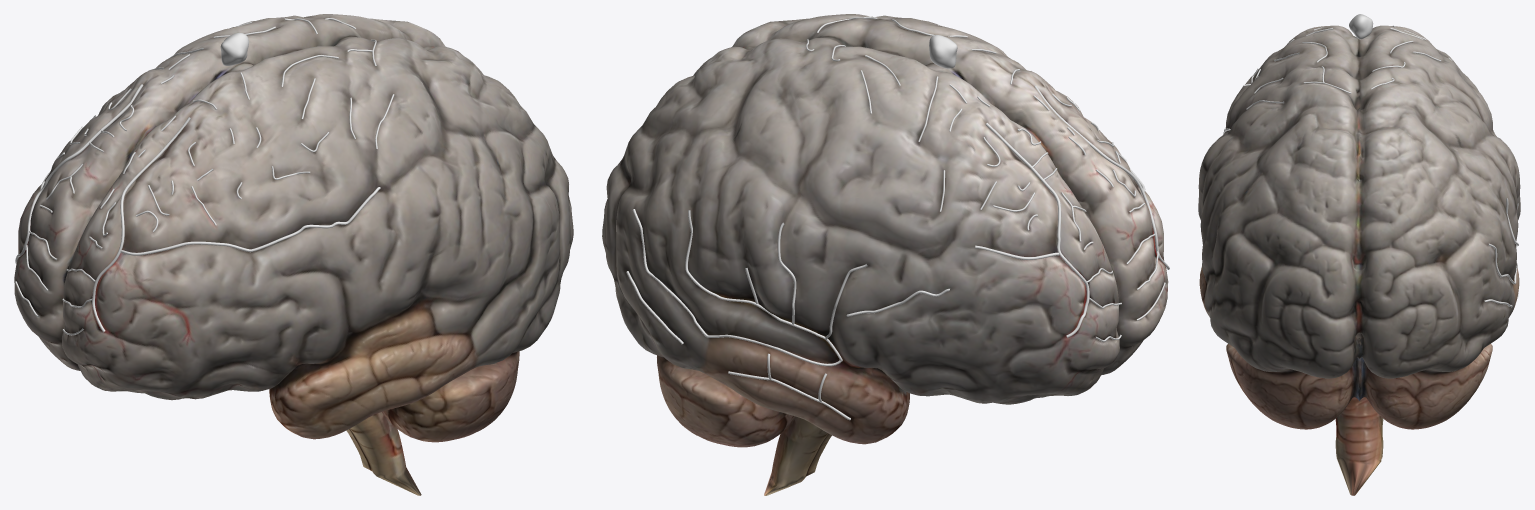
File: brain.glb
The picture shows the model from 3 angles, left to right: view 1: azimuth 30°, elevation 25°; view 2: azimuth 150°, elevation 25°; view 3: azimuth 270°, elevation 25°; orthographic projection. The views are drawn at different scales.
Visible parts, largest first — view 1: brain, synap_first, synap_third, synap_fourth, synap_six.001, fMolecule; view 2: brain, synap_second, synap_third, synap_first, synap_fourth, fMolecule, synap_six.001; view 3: brain, synap_six.001, fMolecule, synap_second.
Boxes of the visible parts, bbox=[...] form: brain: bbox=[14, 14, 573, 495]; synap_first: bbox=[62, 117, 380, 335]; synap_third: bbox=[15, 84, 143, 317]; synap_fourth: bbox=[57, 88, 242, 232]; synap_six.001: bbox=[213, 18, 394, 152]; fMolecule: bbox=[220, 32, 248, 65]; brain: bbox=[602, 14, 1168, 495]; synap_second: bbox=[626, 209, 949, 420]; synap_third: bbox=[975, 122, 1121, 341]; synap_first: bbox=[1034, 85, 1169, 320]; synap_fourth: bbox=[980, 94, 1126, 230]; fMolecule: bbox=[929, 35, 957, 68]; synap_six.001: bbox=[806, 16, 967, 113]; brain: bbox=[1198, 25, 1520, 495]; synap_six.001: bbox=[1246, 40, 1441, 109]; fMolecule: bbox=[1349, 14, 1373, 39]; synap_second: bbox=[1484, 198, 1518, 307].
Bounding box in the file's own units: 0.653 × 0.6302 × 0.4498.
1 material, 1 textured.
